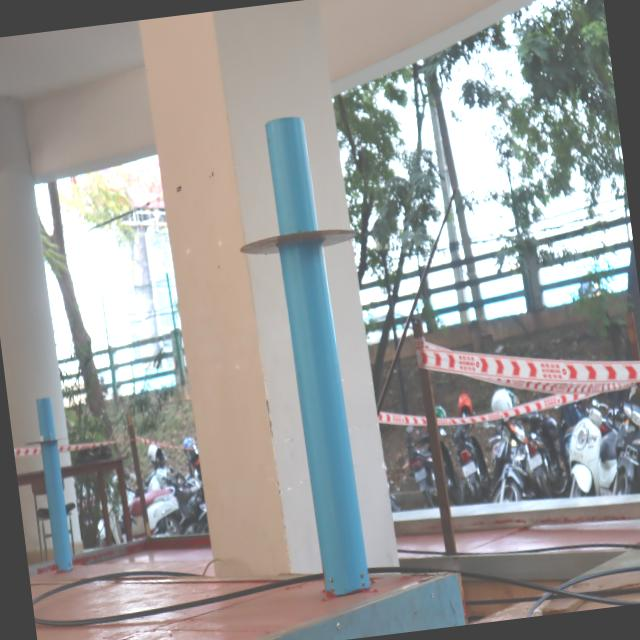pole: (220, 110, 374, 332), (20, 393, 72, 482)
